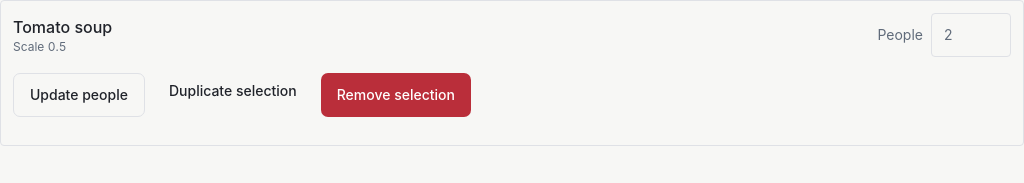
SelectionPeopleForm › updates one recipe selection and reports its new scale
Replace the text in the number field named "People for Tomato soup" with "6" at [971, 35], box [931, 13, 1011, 57]
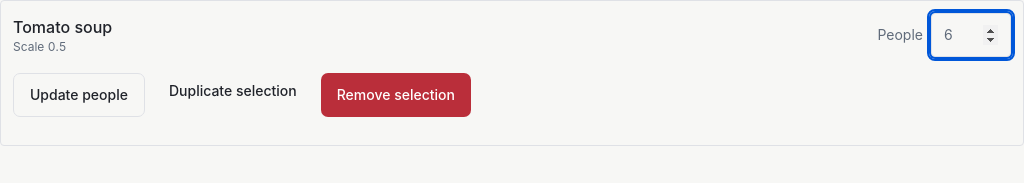
Click the button "Update people" at [79, 95], box [13, 73, 145, 117]
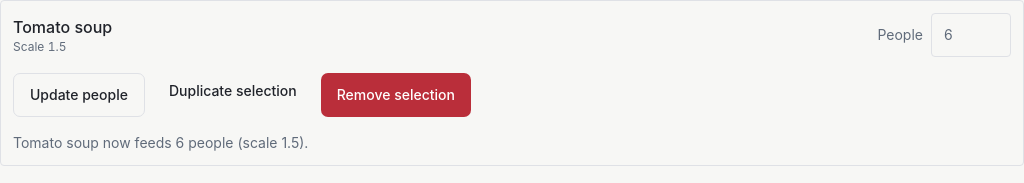
Expected: the text "Tomato soup now feeds 6 people (scale 1.5)." is shown, [13, 134, 308, 151]
